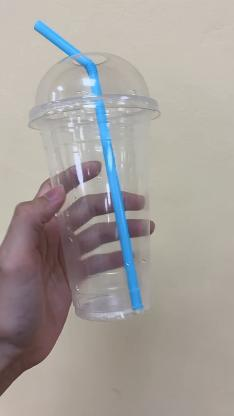Plastic Cup: (26, 52, 164, 320)
